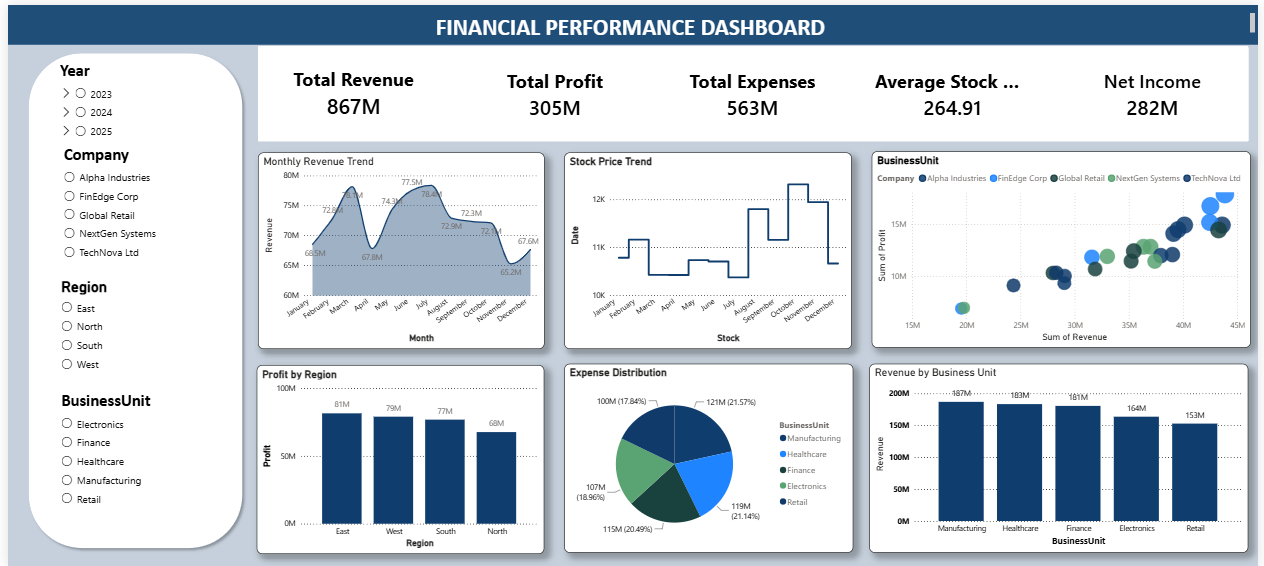

The page's visual inventory and layout, read from the dashboard file:
{"tool":"powerbi","page":{"name":"Page 1","canvas":[2000,900],"ordinal":0},"visuals":[{"type":"shape","box":[0,0,2000,63.3],"z":0,"group":"g1"},{"type":"shape","box":[400,66,1584,152],"z":0,"group":"g2"},{"type":"shape","box":[24,68,360,810],"z":0,"group":"g4"},{"type":"group","id":"g1","title":"Group 1","box":[0,0,2000,63.3],"z":1000},{"type":"textbox","box":[0,7.4,2000,47.5],"z":1000,"group":"g1"},{"type":"cardVisual","fields":{"Data":["Financial_Data_Analysis_Dataset_500.Total Revenue"]},"box":[400,66,306.9,149.5],"z":1000,"group":"g3"},{"type":"cardVisual","fields":{"Data":["Financial_Data_Analysis_Dataset_500.Total Profit"]},"box":[721.8,68.4,306.9,149.5],"z":2000,"group":"g3"},{"type":"lineChart","title":"Monthly Revenue Trend","fields":{"Category":["Financial_Data_Analysis_Dataset_500.Date.Variation.Date Hierarchy.Month"],"Y":["Sum(Financial_Data_Analysis_Dataset_500.Revenue)"]},"box":[400,236,458,314],"z":2000},{"type":"cardVisual","fields":{"Data":["Financial_Data_Analysis_Dataset_500.Total Expenses"]},"box":[1038.5,68.4,306.9,149.5],"z":3000,"group":"g3"},{"type":"lineChart","title":"Stock Price Trend","fields":{"Category":["Financial_Data_Analysis_Dataset_500.Date.Variation.Date Hierarchy.Month"],"Y":["Sum(Financial_Data_Analysis_Dataset_500.StockPrice)"]},"box":[890,236,460,314],"z":3000},{"type":"cardVisual","fields":{"Data":["Financial_Data_Analysis_Dataset_500.Average Stock Price"]},"box":[1358.6,68.4,306.9,149.5],"z":4000,"group":"g3"},{"type":"clusteredColumnChart","title":"Revenue by Business Unit","fields":{"Category":["Financial_Data_Analysis_Dataset_500.BusinessUnit"],"Y":["Sum(Financial_Data_Analysis_Dataset_500.Revenue)"]},"box":[1378,574,606,302],"z":4000},{"type":"cardVisual","fields":{"Data":["Financial_Data_Analysis_Dataset_500.Net Income"]},"box":[1677.1,68.4,306.9,149.5],"z":5000,"group":"g3"},{"type":"clusteredColumnChart","title":"Profit by Region","fields":{"Category":["Financial_Data_Analysis_Dataset_500.Region"],"Y":["Sum(Financial_Data_Analysis_Dataset_500.Profit)"]},"box":[398,576,460,302],"z":5000},{"type":"pieChart","title":"Expense Distribution","fields":{"Category":["Financial_Data_Analysis_Dataset_500.BusinessUnit"],"Y":["Sum(Financial_Data_Analysis_Dataset_500.Expenses)"]},"box":[890,574,462,302],"z":6000},{"type":"scatterChart","title":"BusinessUnit","fields":{"X":["Sum(Financial_Data_Analysis_Dataset_500.Revenue)"],"Y":["Sum(Financial_Data_Analysis_Dataset_500.Profit)"],"Series":["Financial_Data_Analysis_Dataset_500.Company"],"Category":["Financial_Data_Analysis_Dataset_500.BusinessUnit"],"Size":["Financial_Data_Analysis_Dataset_500.Net Income"]},"box":[1382,234,606,314],"z":7000},{"type":"group","id":"g2","title":"Group 3","box":[400,66,1584,152],"z":8000},{"type":"group","id":"g3","title":"Group 2","box":[400,66,1584,152],"z":8000,"group":"g2"},{"type":"listSlicer","fields":{"Values":["Financial_Data_Analysis_Dataset_500.Date.Variation.Date Hierarchy.Year","Financial_Data_Analysis_Dataset_500.Date.Variation.Date Hierarchy.Quarter","Financial_Data_Analysis_Dataset_500.Date.Variation.Date Hierarchy.Month","Financial_Data_Analysis_Dataset_500.Date.Variation.Date Hierarchy.Day"]},"box":[78,88,176,166],"z":9000,"group":"g5"},{"type":"listSlicer","fields":{"Values":["Financial_Data_Analysis_Dataset_500.Company"]},"box":[84,222,176,210],"z":10000,"group":"g5"},{"type":"listSlicer","fields":{"Values":["Financial_Data_Analysis_Dataset_500.Region"]},"box":[80,436,176,176],"z":11000,"group":"g5"},{"type":"listSlicer","fields":{"Values":["Financial_Data_Analysis_Dataset_500.BusinessUnit"]},"box":[80,616,176,222],"z":12000,"group":"g5"},{"type":"group","id":"g4","title":"Group 4","box":[24,68,360,810],"z":12001},{"type":"group","id":"g5","title":"Group 5","box":[78,88,182,750],"z":12002,"group":"g4"}]}

Visuals, with their boxes in screenshot pixels (x1, y1, x2, y2), scaled from the page's 2000x900 canvas onto the 1264x566 screenshot:
shape: [left=0, top=0, right=1263, bottom=40]
shape: [left=253, top=42, right=1254, bottom=137]
shape: [left=15, top=43, right=243, bottom=552]
"Group 1" group: [left=0, top=0, right=1263, bottom=40]
textbox: [left=0, top=5, right=1263, bottom=35]
cardVisual - Financial_Data_Analysis_Dataset_500.Total Revenue: [left=253, top=42, right=447, bottom=136]
cardVisual - Financial_Data_Analysis_Dataset_500.Total Profit: [left=456, top=43, right=650, bottom=137]
"Monthly Revenue Trend" lineChart: [left=253, top=148, right=542, bottom=346]
cardVisual - Financial_Data_Analysis_Dataset_500.Total Expenses: [left=656, top=43, right=850, bottom=137]
"Stock Price Trend" lineChart: [left=562, top=148, right=853, bottom=346]
cardVisual - Financial_Data_Analysis_Dataset_500.Average Stock Price: [left=859, top=43, right=1053, bottom=137]
"Revenue by Business Unit" clusteredColumnChart: [left=871, top=361, right=1254, bottom=551]
cardVisual - Financial_Data_Analysis_Dataset_500.Net Income: [left=1060, top=43, right=1254, bottom=137]
"Profit by Region" clusteredColumnChart: [left=252, top=362, right=542, bottom=552]
"Expense Distribution" pieChart: [left=562, top=361, right=854, bottom=551]
"BusinessUnit" scatterChart: [left=873, top=147, right=1256, bottom=345]
"Group 3" group: [left=253, top=42, right=1254, bottom=137]
"Group 2" group: [left=253, top=42, right=1254, bottom=137]
listSlicer - Financial_Data_Analysis_Dataset_500.Date.Variation.Date Hierarchy.Year x Financial_Data_Analysis_Dataset_500.Date.Variation.Date Hierarchy.Quarter: [left=49, top=55, right=161, bottom=160]
listSlicer - Financial_Data_Analysis_Dataset_500.Company: [left=53, top=140, right=164, bottom=272]
listSlicer - Financial_Data_Analysis_Dataset_500.Region: [left=51, top=274, right=162, bottom=385]
listSlicer - Financial_Data_Analysis_Dataset_500.BusinessUnit: [left=51, top=387, right=162, bottom=527]
"Group 4" group: [left=15, top=43, right=243, bottom=552]
"Group 5" group: [left=49, top=55, right=164, bottom=527]
